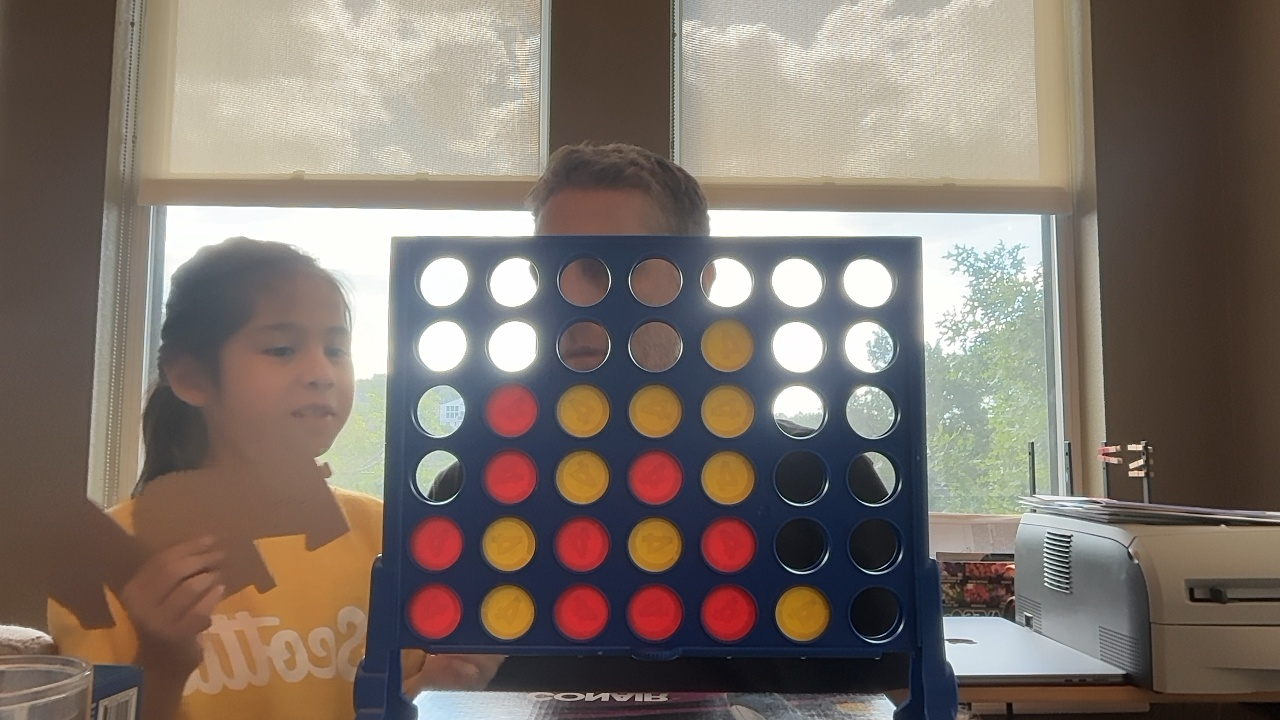red piece: (701, 585, 757, 641), (554, 584, 609, 640), (627, 585, 682, 641), (701, 517, 756, 572), (628, 450, 682, 505), (555, 517, 609, 571), (408, 584, 461, 639), (410, 516, 463, 570), (483, 450, 536, 504), (485, 384, 537, 437)
yellow piece: (775, 585, 830, 641), (480, 585, 534, 639), (701, 451, 755, 504), (628, 518, 681, 572), (482, 517, 535, 571), (556, 450, 609, 504), (557, 384, 609, 437), (629, 384, 681, 437), (701, 319, 753, 371), (702, 384, 753, 437)
